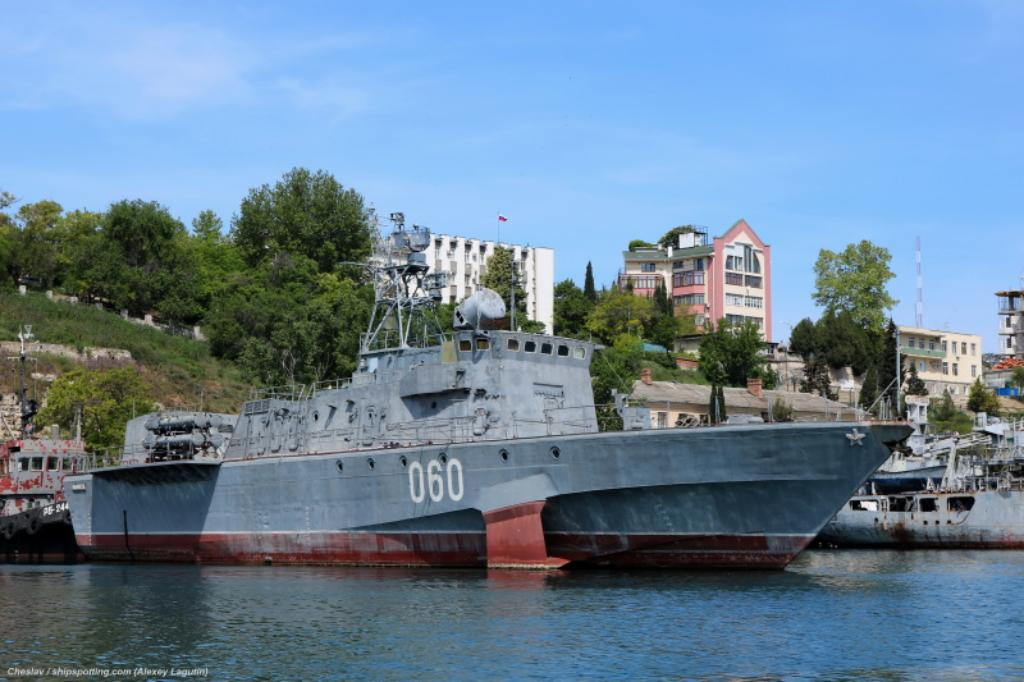Warship: (56, 208, 916, 572)
